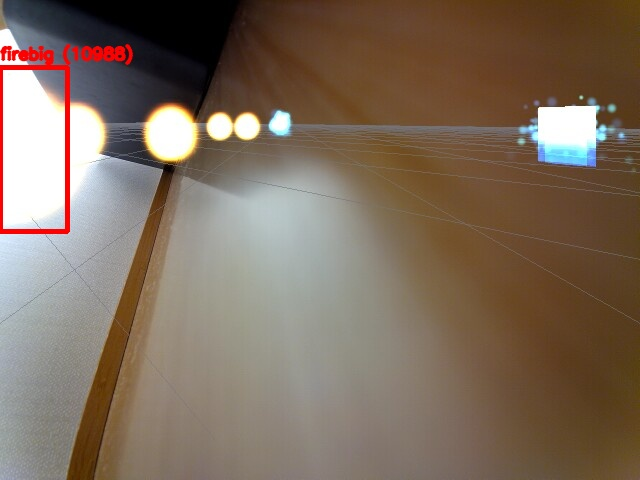firebig: (0, 67, 67, 231)
